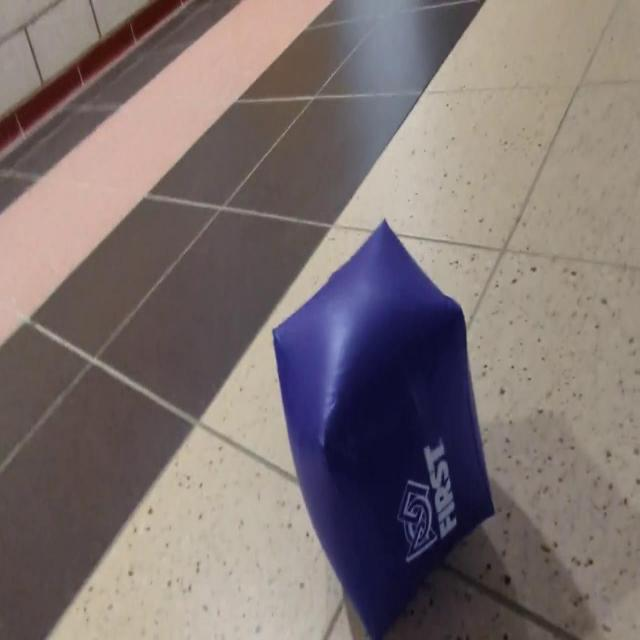frc_cube: (272, 216, 499, 640)
